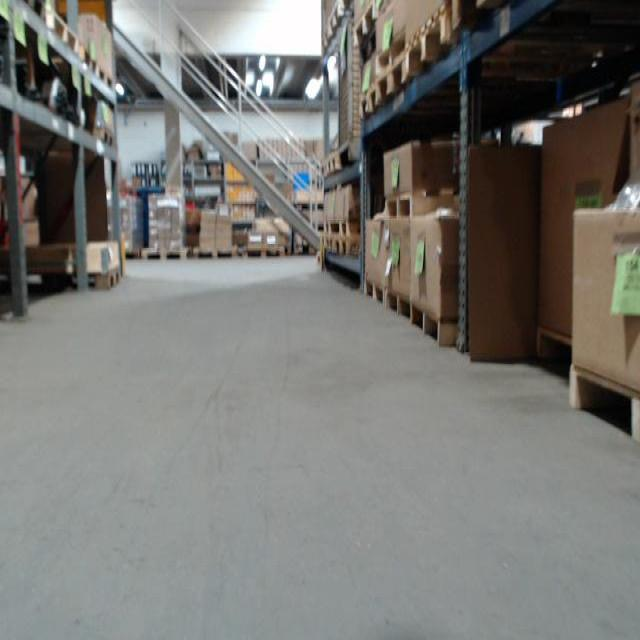pallet: (567, 364, 640, 442), (407, 1, 454, 82), (385, 186, 458, 221), (411, 305, 462, 347), (532, 330, 577, 374), (43, 12, 79, 56), (380, 53, 407, 109), (352, 1, 377, 47), (384, 289, 412, 320), (79, 269, 120, 290), (138, 245, 190, 260), (360, 82, 380, 119), (328, 0, 347, 37), (242, 245, 286, 259), (193, 246, 237, 260), (362, 280, 386, 305), (95, 63, 116, 91)
stillage: (334, 5, 368, 169)
